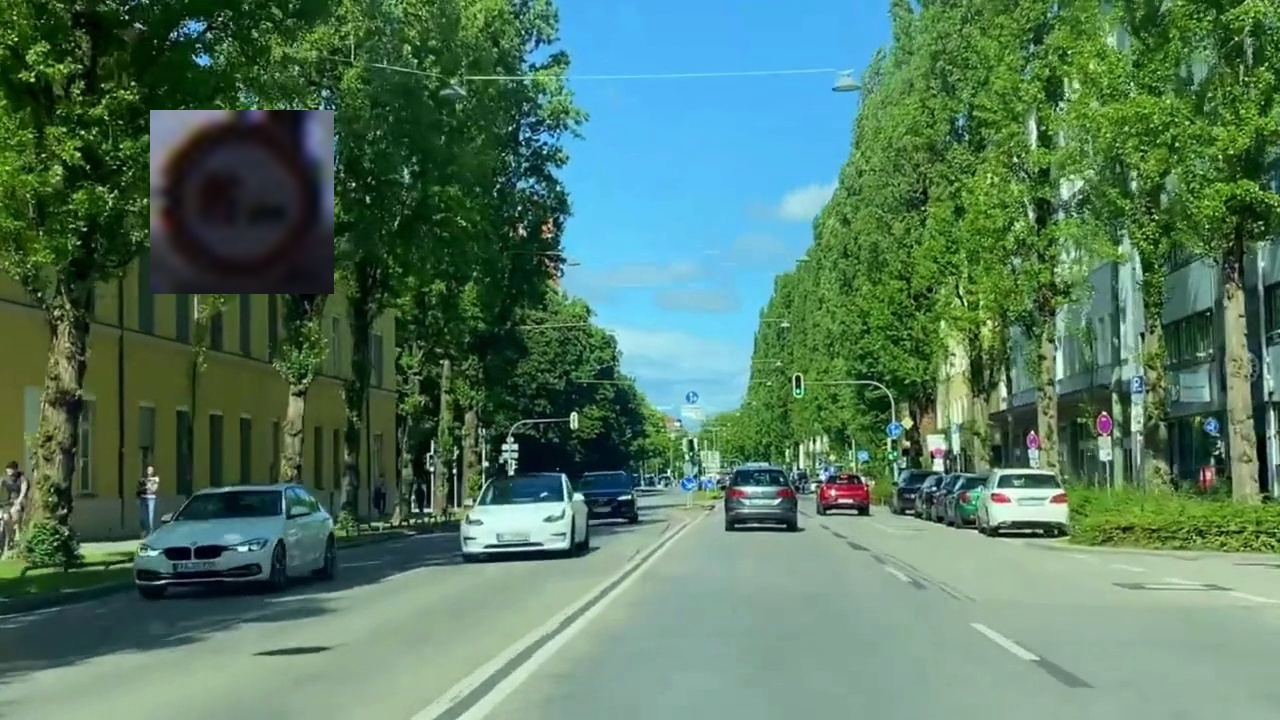No pass >3.5t: (150, 110, 334, 294)
